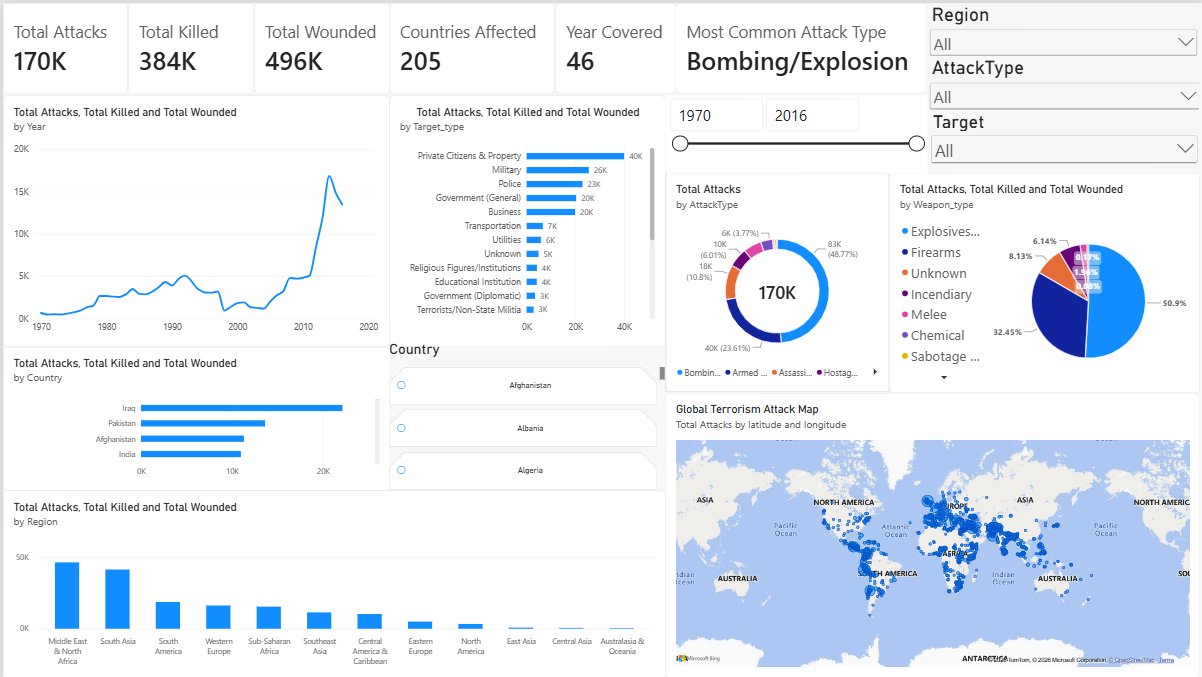

This screenshot's page, from the dashboard's own definition file:
{"tool":"powerbi","page":{"name":"Page 1","canvas":[1920,1080],"ordinal":0},"visuals":[{"type":"cardVisual","fields":{"Data":["cleaned_terrorism_data.Most Common Attack Type"]},"box":[1076,0,402.5,145],"z":0},{"type":"cardVisual","fields":{"Data":["cleaned_terrorism_data.Total Attacks"]},"box":[0,0,200,145],"z":1000},{"type":"cardVisual","fields":{"Data":["cleaned_terrorism_data.Total Killed"]},"box":[200,0,202.5,145],"z":2000},{"type":"cardVisual","fields":{"Data":["cleaned_terrorism_data.Total Wounded"]},"box":[402.5,0,217.5,145],"z":3000},{"type":"cardVisual","fields":{"Data":["cleaned_terrorism_data.Countries Affected"]},"box":[618,0,265,145],"z":4000},{"type":"cardVisual","fields":{"Data":["cleaned_terrorism_data.Year Covered"]},"box":[884,0,192.5,145],"z":5000},{"type":"lineChart","fields":{"Category":["cleaned_terrorism_data.Year"],"Y":["cleaned_terrorism_data.Total Attacks"]},"box":[0,148,618,402],"z":6000},{"type":"clusteredBarChart","fields":{"Category":["cleaned_terrorism_data.Country"],"Y":["cleaned_terrorism_data.Total Attacks"]},"box":[0,550,620,230],"z":7000},{"type":"clusteredBarChart","fields":{"Category":["cleaned_terrorism_data.Target_type"],"Y":["cleaned_terrorism_data.Total Attacks"]},"box":[618,148,442,402],"z":9000},{"type":"pieChart","fields":{"Category":["cleaned_terrorism_data.Weapon_type"],"Y":["cleaned_terrorism_data.Total Attacks"]},"box":[1418,272,498,352],"z":10000},{"type":"clusteredColumnChart","fields":{"Category":["cleaned_terrorism_data.Region"],"Y":["cleaned_terrorism_data.Total Attacks"]},"box":[0,780,1060.5,300.4],"z":11000},{"type":"donutChart","fields":{"Category":["cleaned_terrorism_data.AttackType"],"Y":["cleaned_terrorism_data.Total Attacks"]},"box":[1060,272,358,350],"z":12000},{"type":"slicer","fields":{"Values":["cleaned_terrorism_data.Year"]},"box":[1060,148,418,124],"z":13000},{"type":"slicer","fields":{"Values":["cleaned_terrorism_data.Region"]},"box":[1478,0,438,86],"z":14000},{"type":"slicer","fields":{"Values":["cleaned_terrorism_data.AttackType"]},"box":[1478,86,442,108],"z":15000},{"type":"advancedSlicerVisual","fields":{"Values":["cleaned_terrorism_data.Country"]},"box":[618.9,539.3,441.6,240.7],"z":16000},{"type":"slicer","fields":{"Values":["cleaned_terrorism_data.Target"]},"box":[1480,172,436,120],"z":17000},{"type":"map","title":"Global Terrorism Attack Map","fields":{"Y":["cleaned_terrorism_data.latitude"],"X":["cleaned_terrorism_data.longitude"],"Size":["cleaned_terrorism_data.Total Attacks"]},"box":[1060,624,856,456],"z":18000}]}

Visuals, with their boxes in screenshot pixels (x1, y1, x2, y2), scaled from the page's 1920x1080 canvas onto the 1202x677 screenshot:
cardVisual - cleaned_terrorism_data.Most Common Attack Type: (674, 0, 926, 91)
cardVisual - cleaned_terrorism_data.Total Attacks: (0, 0, 125, 91)
cardVisual - cleaned_terrorism_data.Total Killed: (125, 0, 252, 91)
cardVisual - cleaned_terrorism_data.Total Wounded: (252, 0, 388, 91)
cardVisual - cleaned_terrorism_data.Countries Affected: (387, 0, 553, 91)
cardVisual - cleaned_terrorism_data.Year Covered: (553, 0, 674, 91)
lineChart - cleaned_terrorism_data.Year x cleaned_terrorism_data.Total Attacks: (0, 93, 387, 345)
clusteredBarChart - cleaned_terrorism_data.Country x cleaned_terrorism_data.Total Attacks: (0, 345, 388, 489)
clusteredBarChart - cleaned_terrorism_data.Target_type x cleaned_terrorism_data.Total Attacks: (387, 93, 664, 345)
pieChart - cleaned_terrorism_data.Weapon_type x cleaned_terrorism_data.Total Attacks: (888, 171, 1199, 391)
clusteredColumnChart - cleaned_terrorism_data.Region x cleaned_terrorism_data.Total Attacks: (0, 489, 664, 676)
donutChart - cleaned_terrorism_data.AttackType x cleaned_terrorism_data.Total Attacks: (664, 171, 888, 390)
slicer - cleaned_terrorism_data.Year: (664, 93, 925, 171)
slicer - cleaned_terrorism_data.Region: (925, 0, 1199, 54)
slicer - cleaned_terrorism_data.AttackType: (925, 54, 1201, 122)
advancedSlicerVisual - cleaned_terrorism_data.Country: (387, 338, 664, 489)
slicer - cleaned_terrorism_data.Target: (927, 108, 1199, 183)
"Global Terrorism Attack Map" map: (664, 391, 1199, 676)
